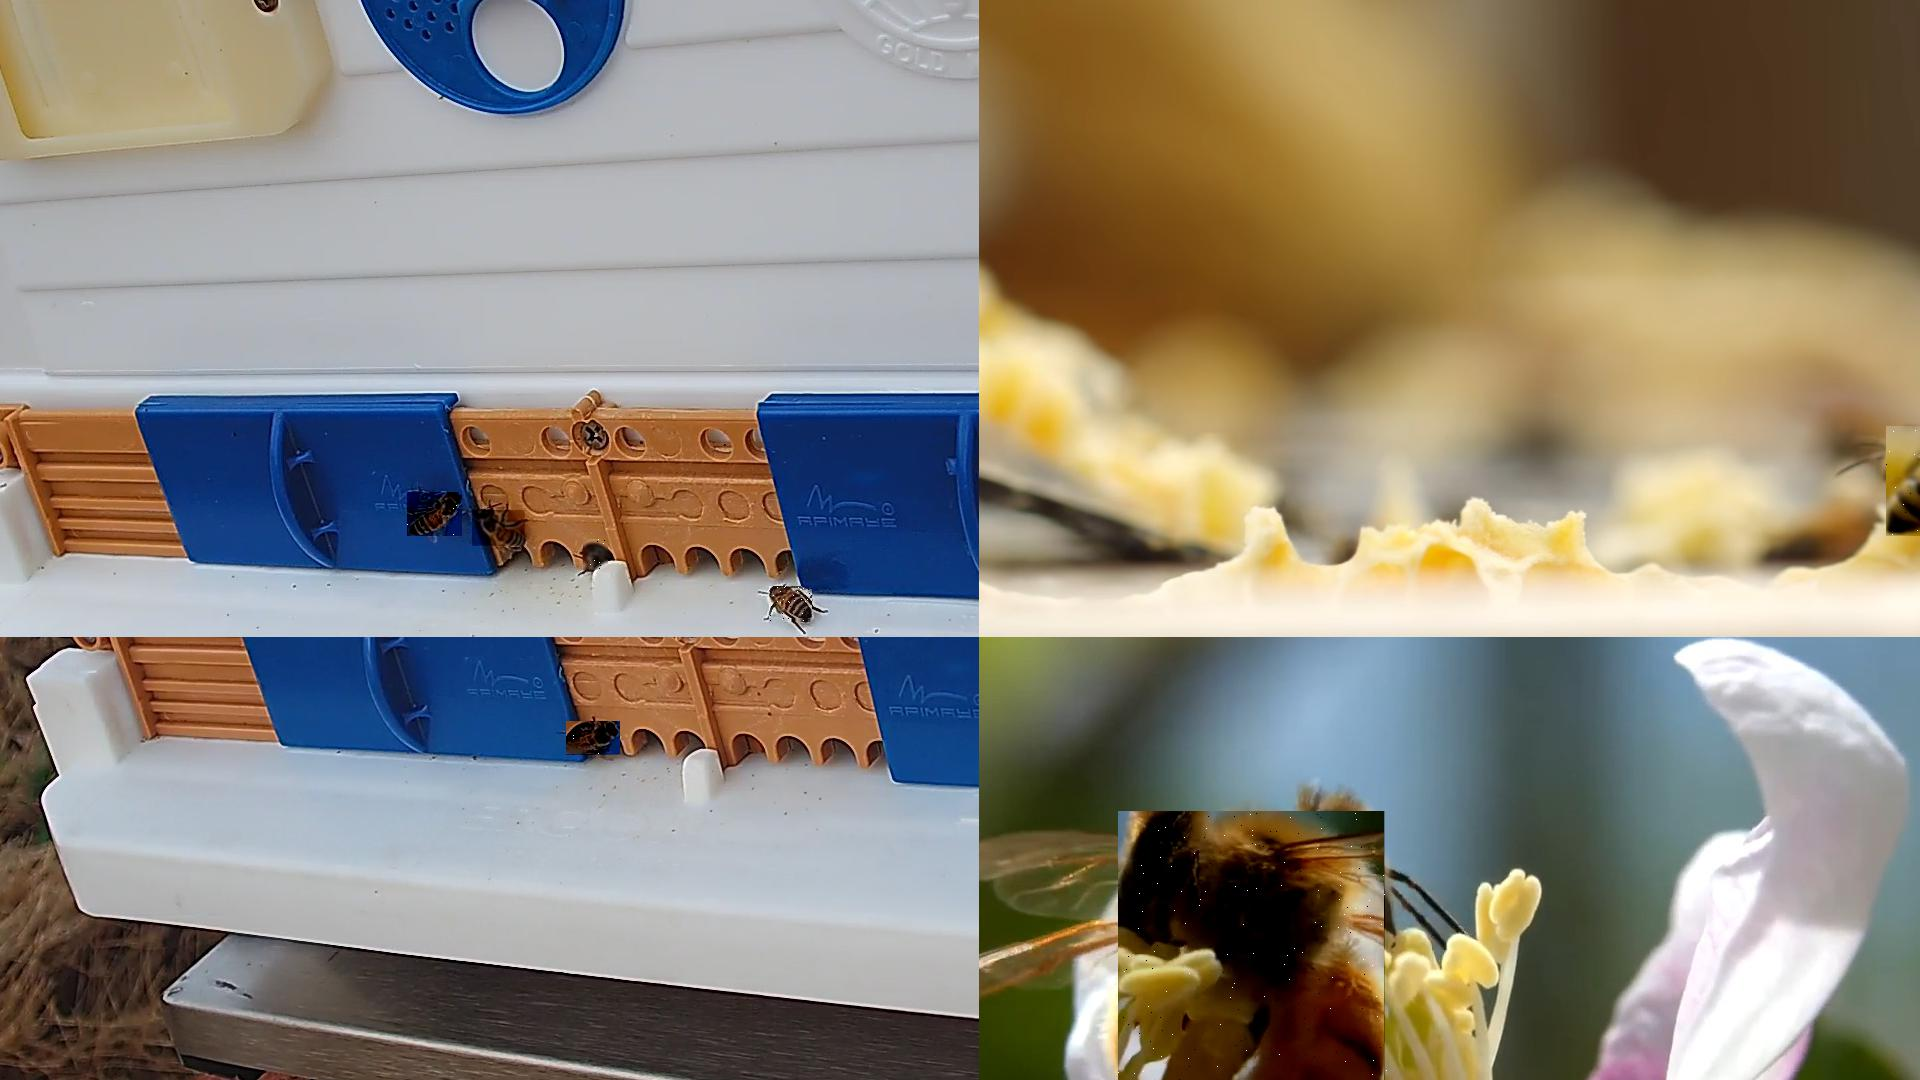bee: (1118, 811, 1389, 1079), (407, 492, 463, 537), (566, 721, 621, 758), (472, 510, 526, 547), (769, 587, 814, 622), (583, 539, 609, 571)
